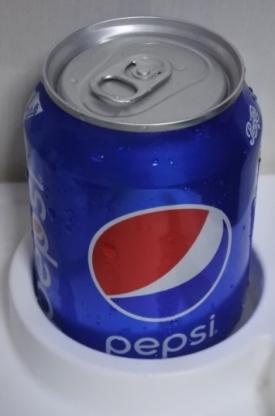Can: (16, 18, 264, 360)
